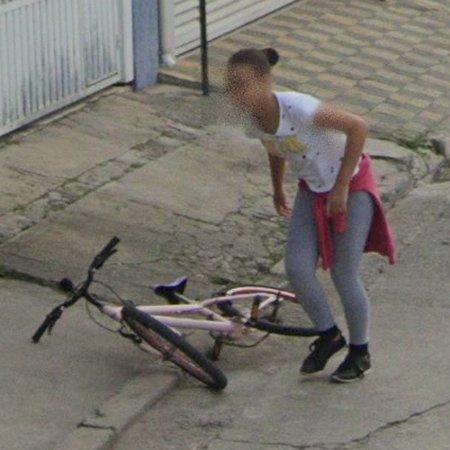bicycles: (33, 238, 321, 391)
